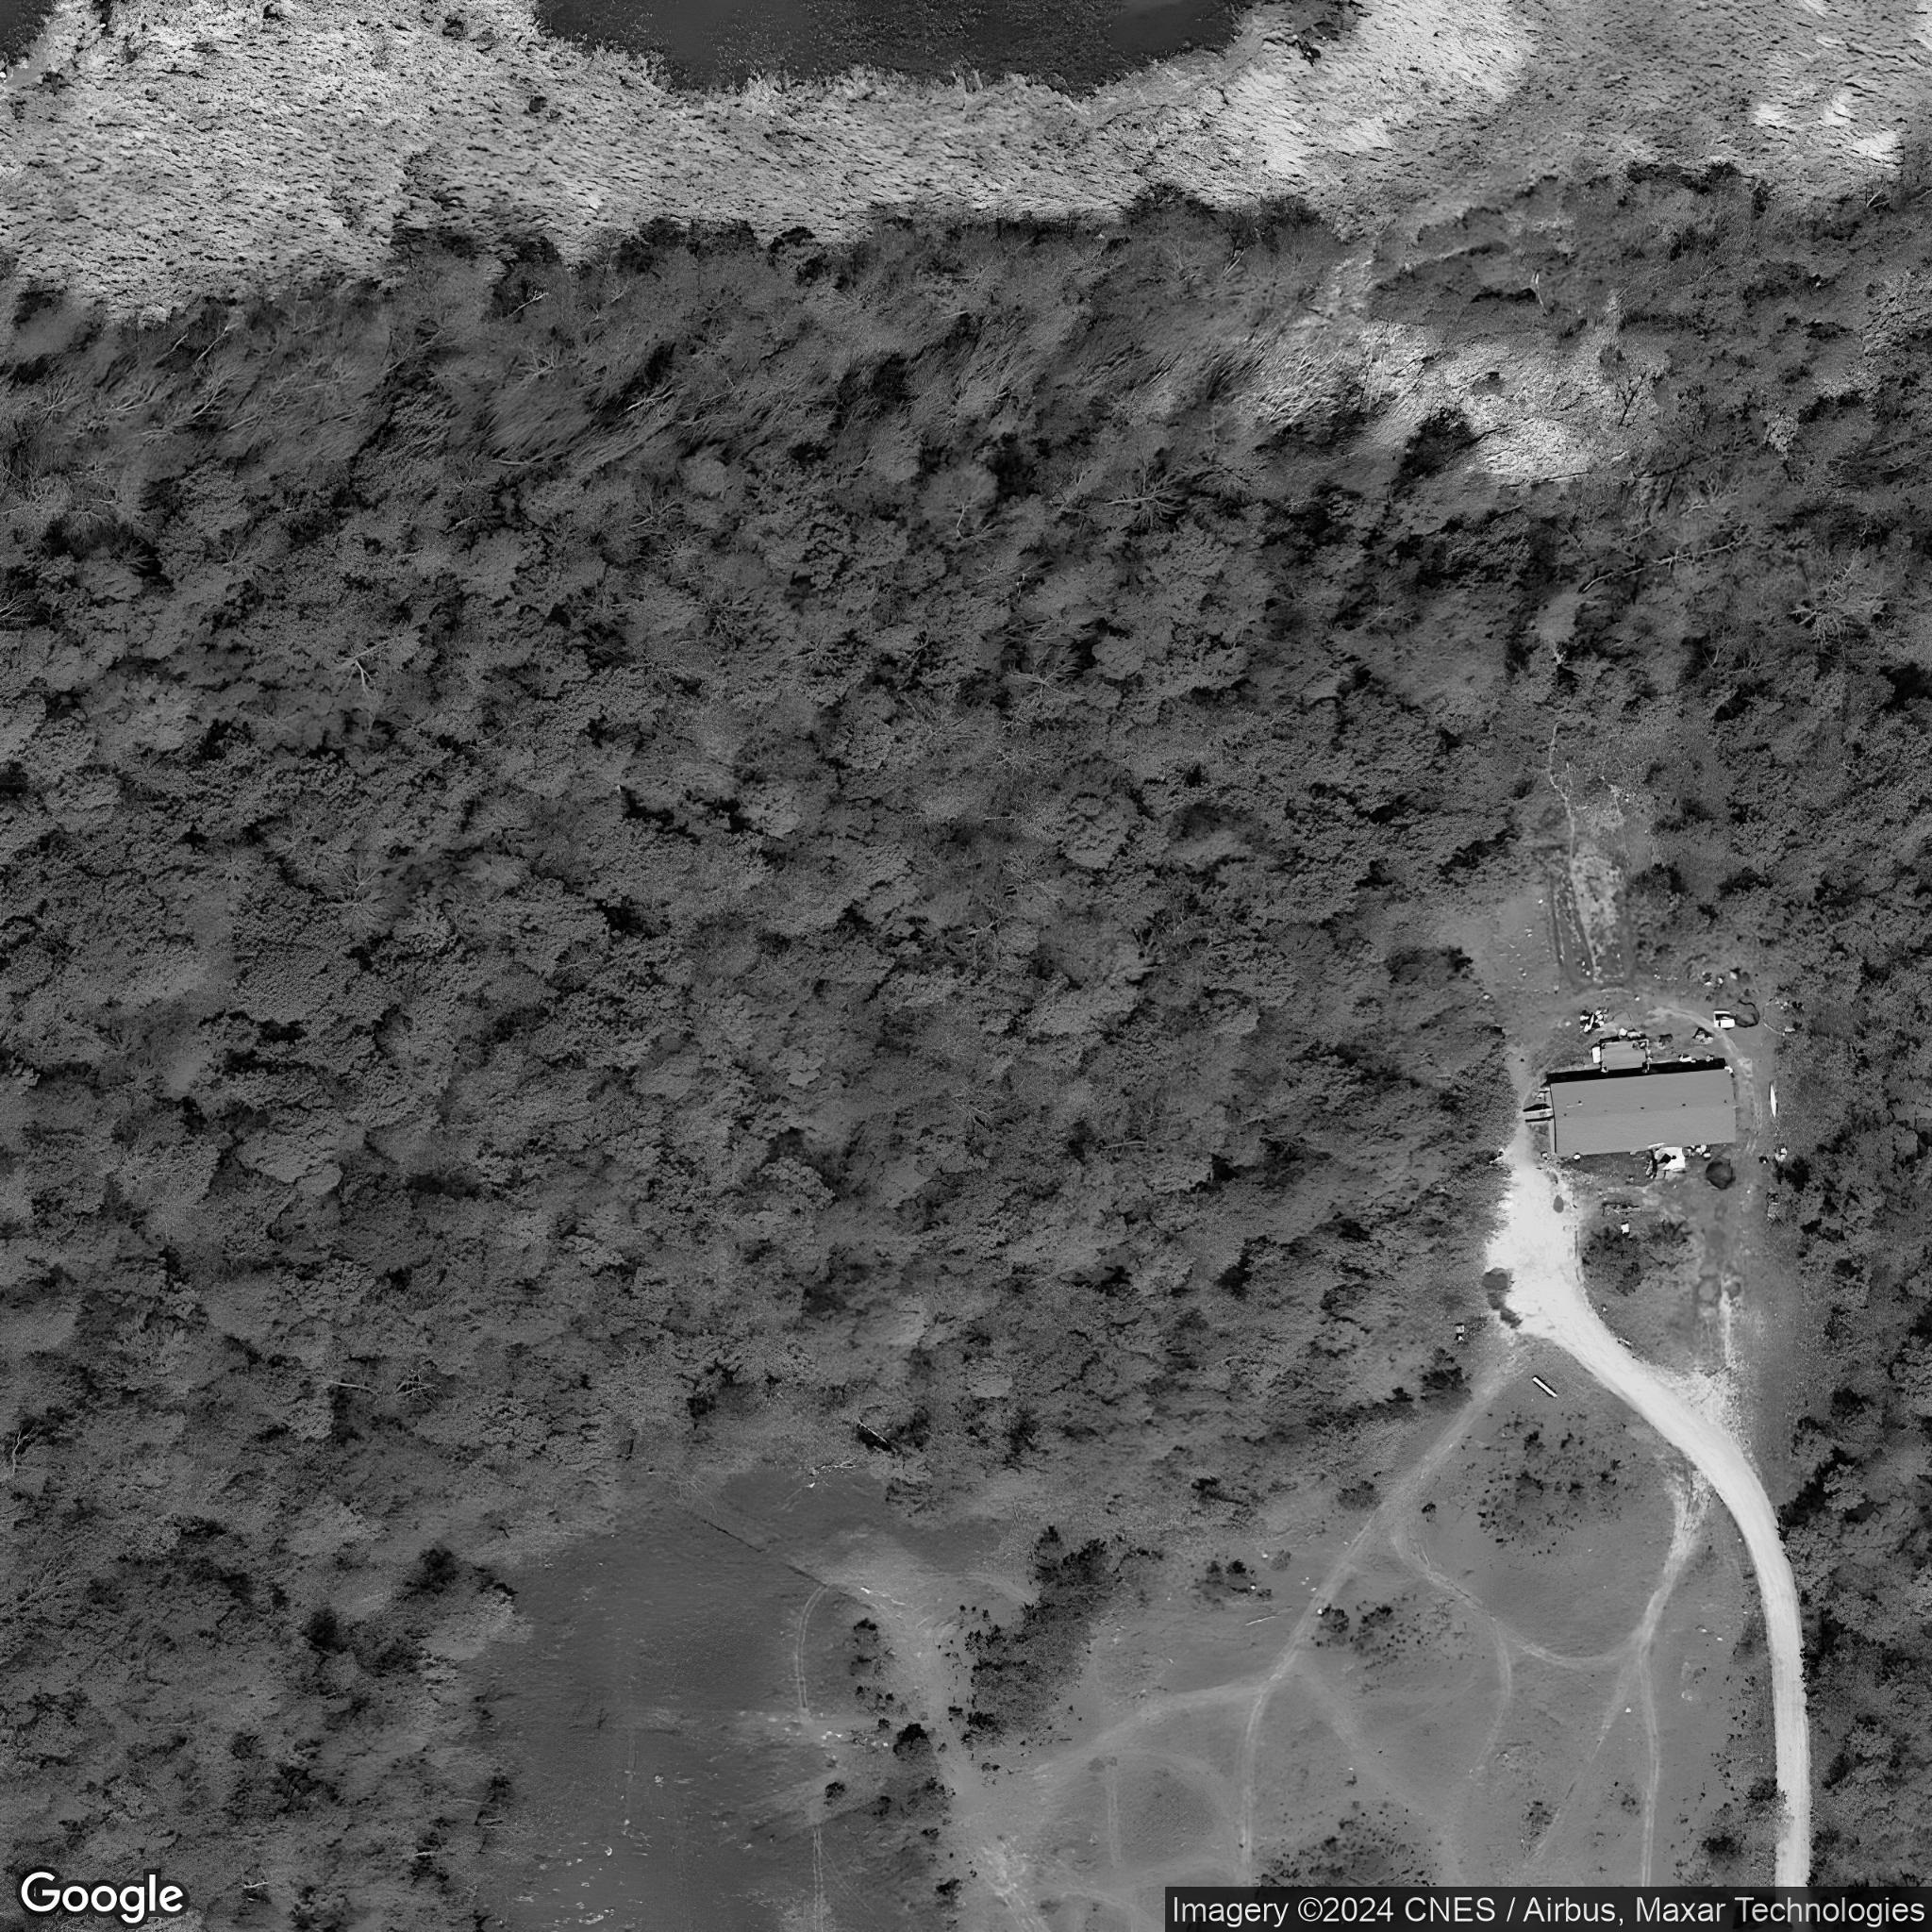House: (1548, 1069, 1737, 1159)
Propane: (1591, 1046, 1601, 1065)
